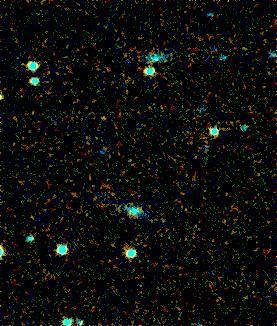star: (87, 99, 117, 129)
